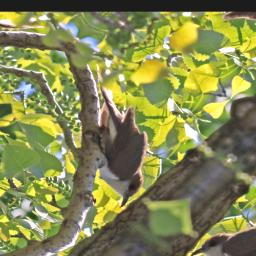Cuckoo: (26, 76, 192, 210)
